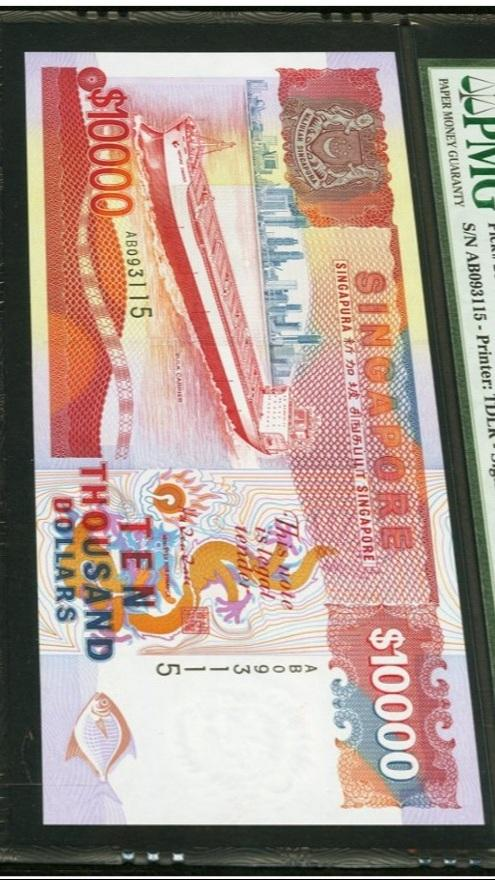10000SingaporeDollar: (44, 52, 457, 811)
